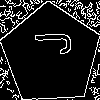J: (26, 29, 72, 57)
